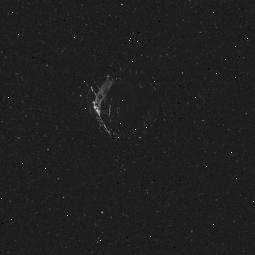lisa_pathfinder: (78, 58, 167, 144)
